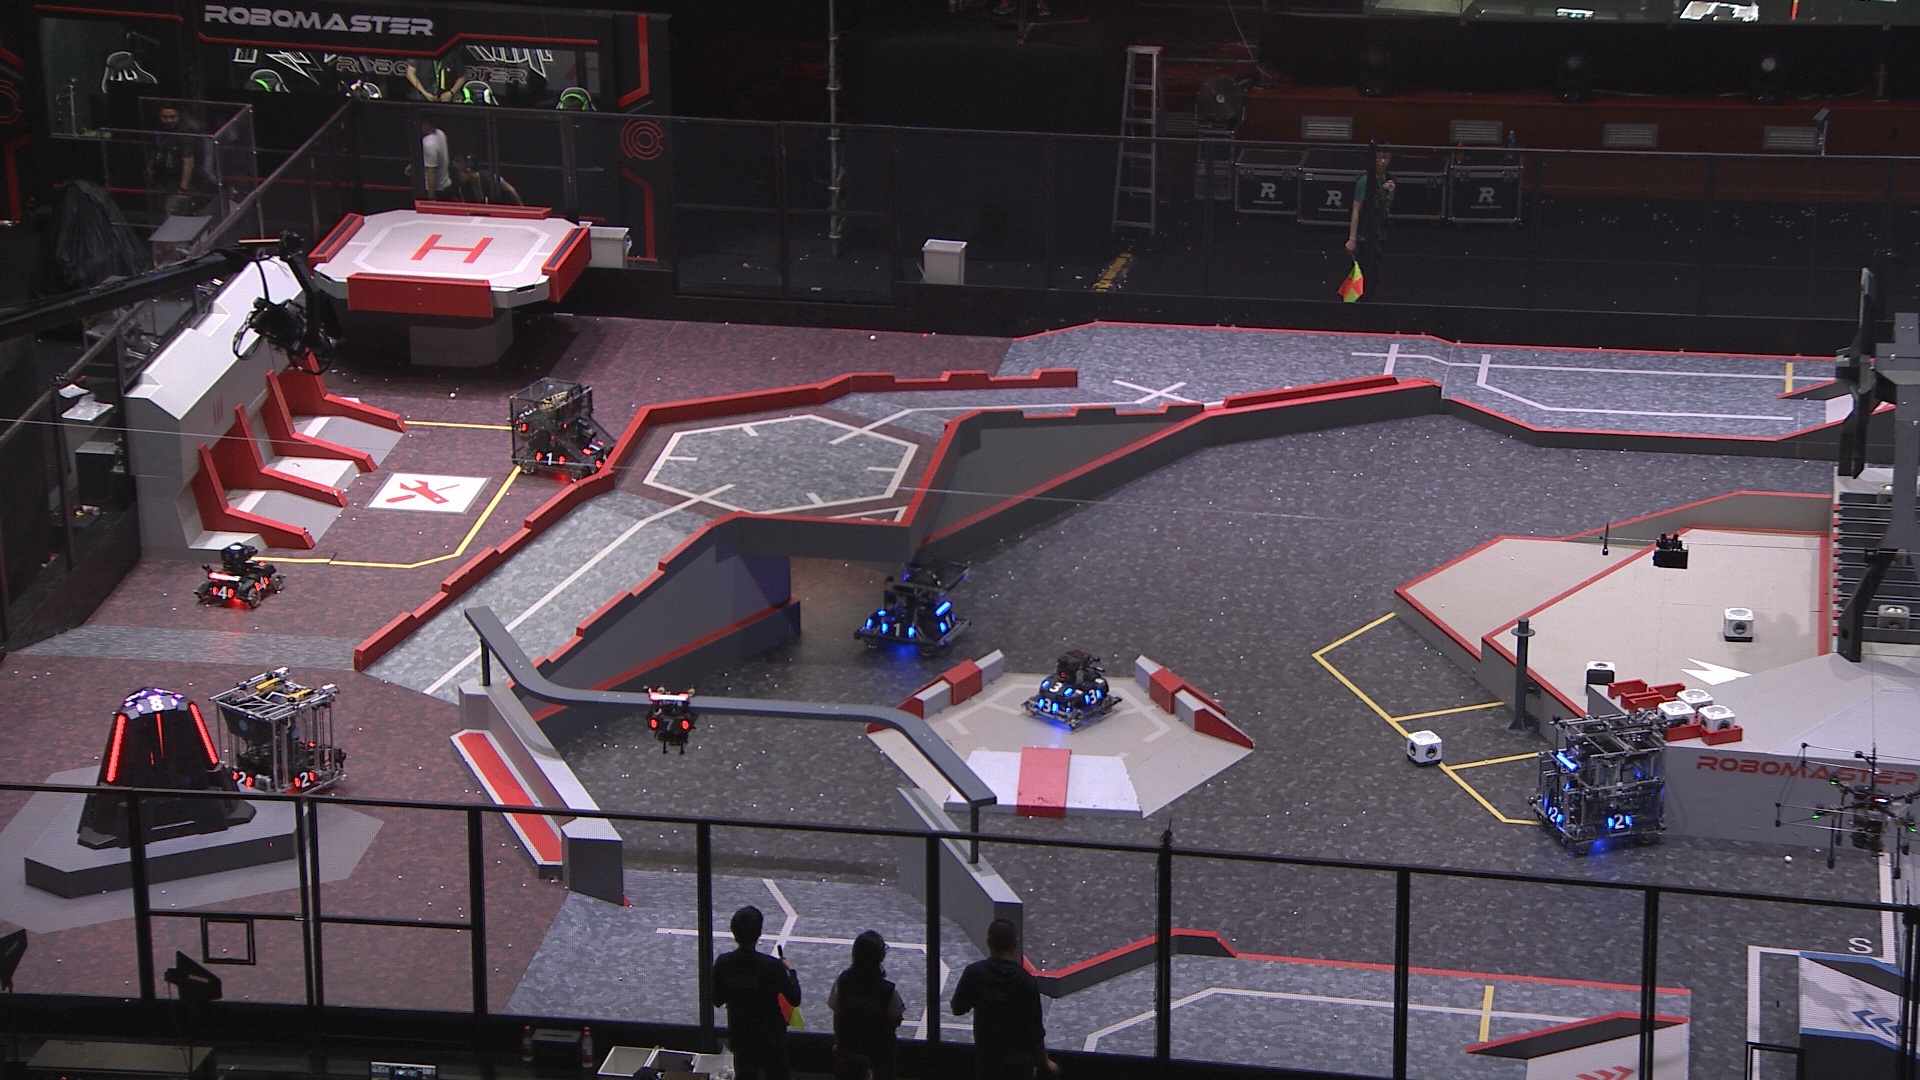armor: (190, 703, 218, 764), (105, 713, 128, 781), (880, 622, 915, 641), (534, 452, 567, 469), (647, 717, 690, 731), (291, 769, 318, 789), (1038, 679, 1073, 694), (1607, 814, 1636, 831), (231, 770, 256, 789), (208, 584, 233, 603), (1545, 807, 1567, 827), (154, 712, 164, 752), (1083, 688, 1102, 707), (249, 575, 272, 591), (939, 612, 956, 632), (1038, 698, 1059, 713), (583, 440, 604, 455), (593, 456, 611, 469)
base: (73, 684, 257, 855)
car: (1524, 705, 1667, 847), (214, 666, 352, 804), (506, 375, 622, 485), (855, 559, 972, 661), (1021, 647, 1125, 728), (193, 541, 284, 612)
ignore: (135, 698, 177, 712), (125, 688, 142, 708)
watcher: (645, 680, 698, 752)
